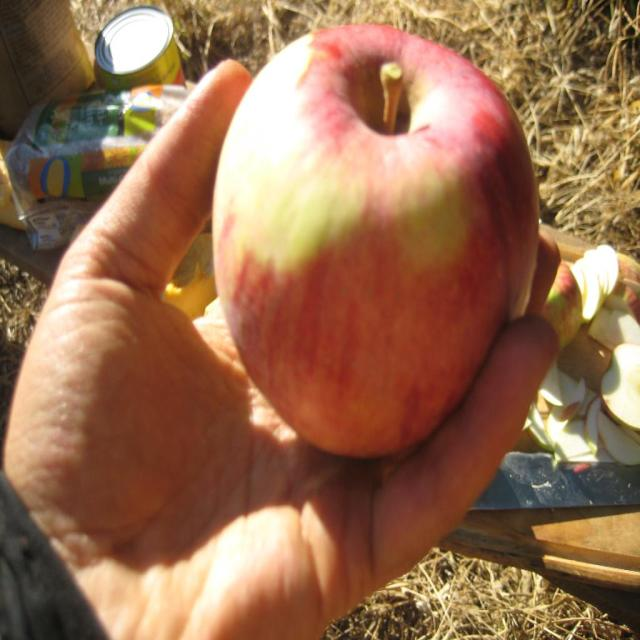Healty Apple: (212, 24, 540, 454), (522, 246, 640, 462)
